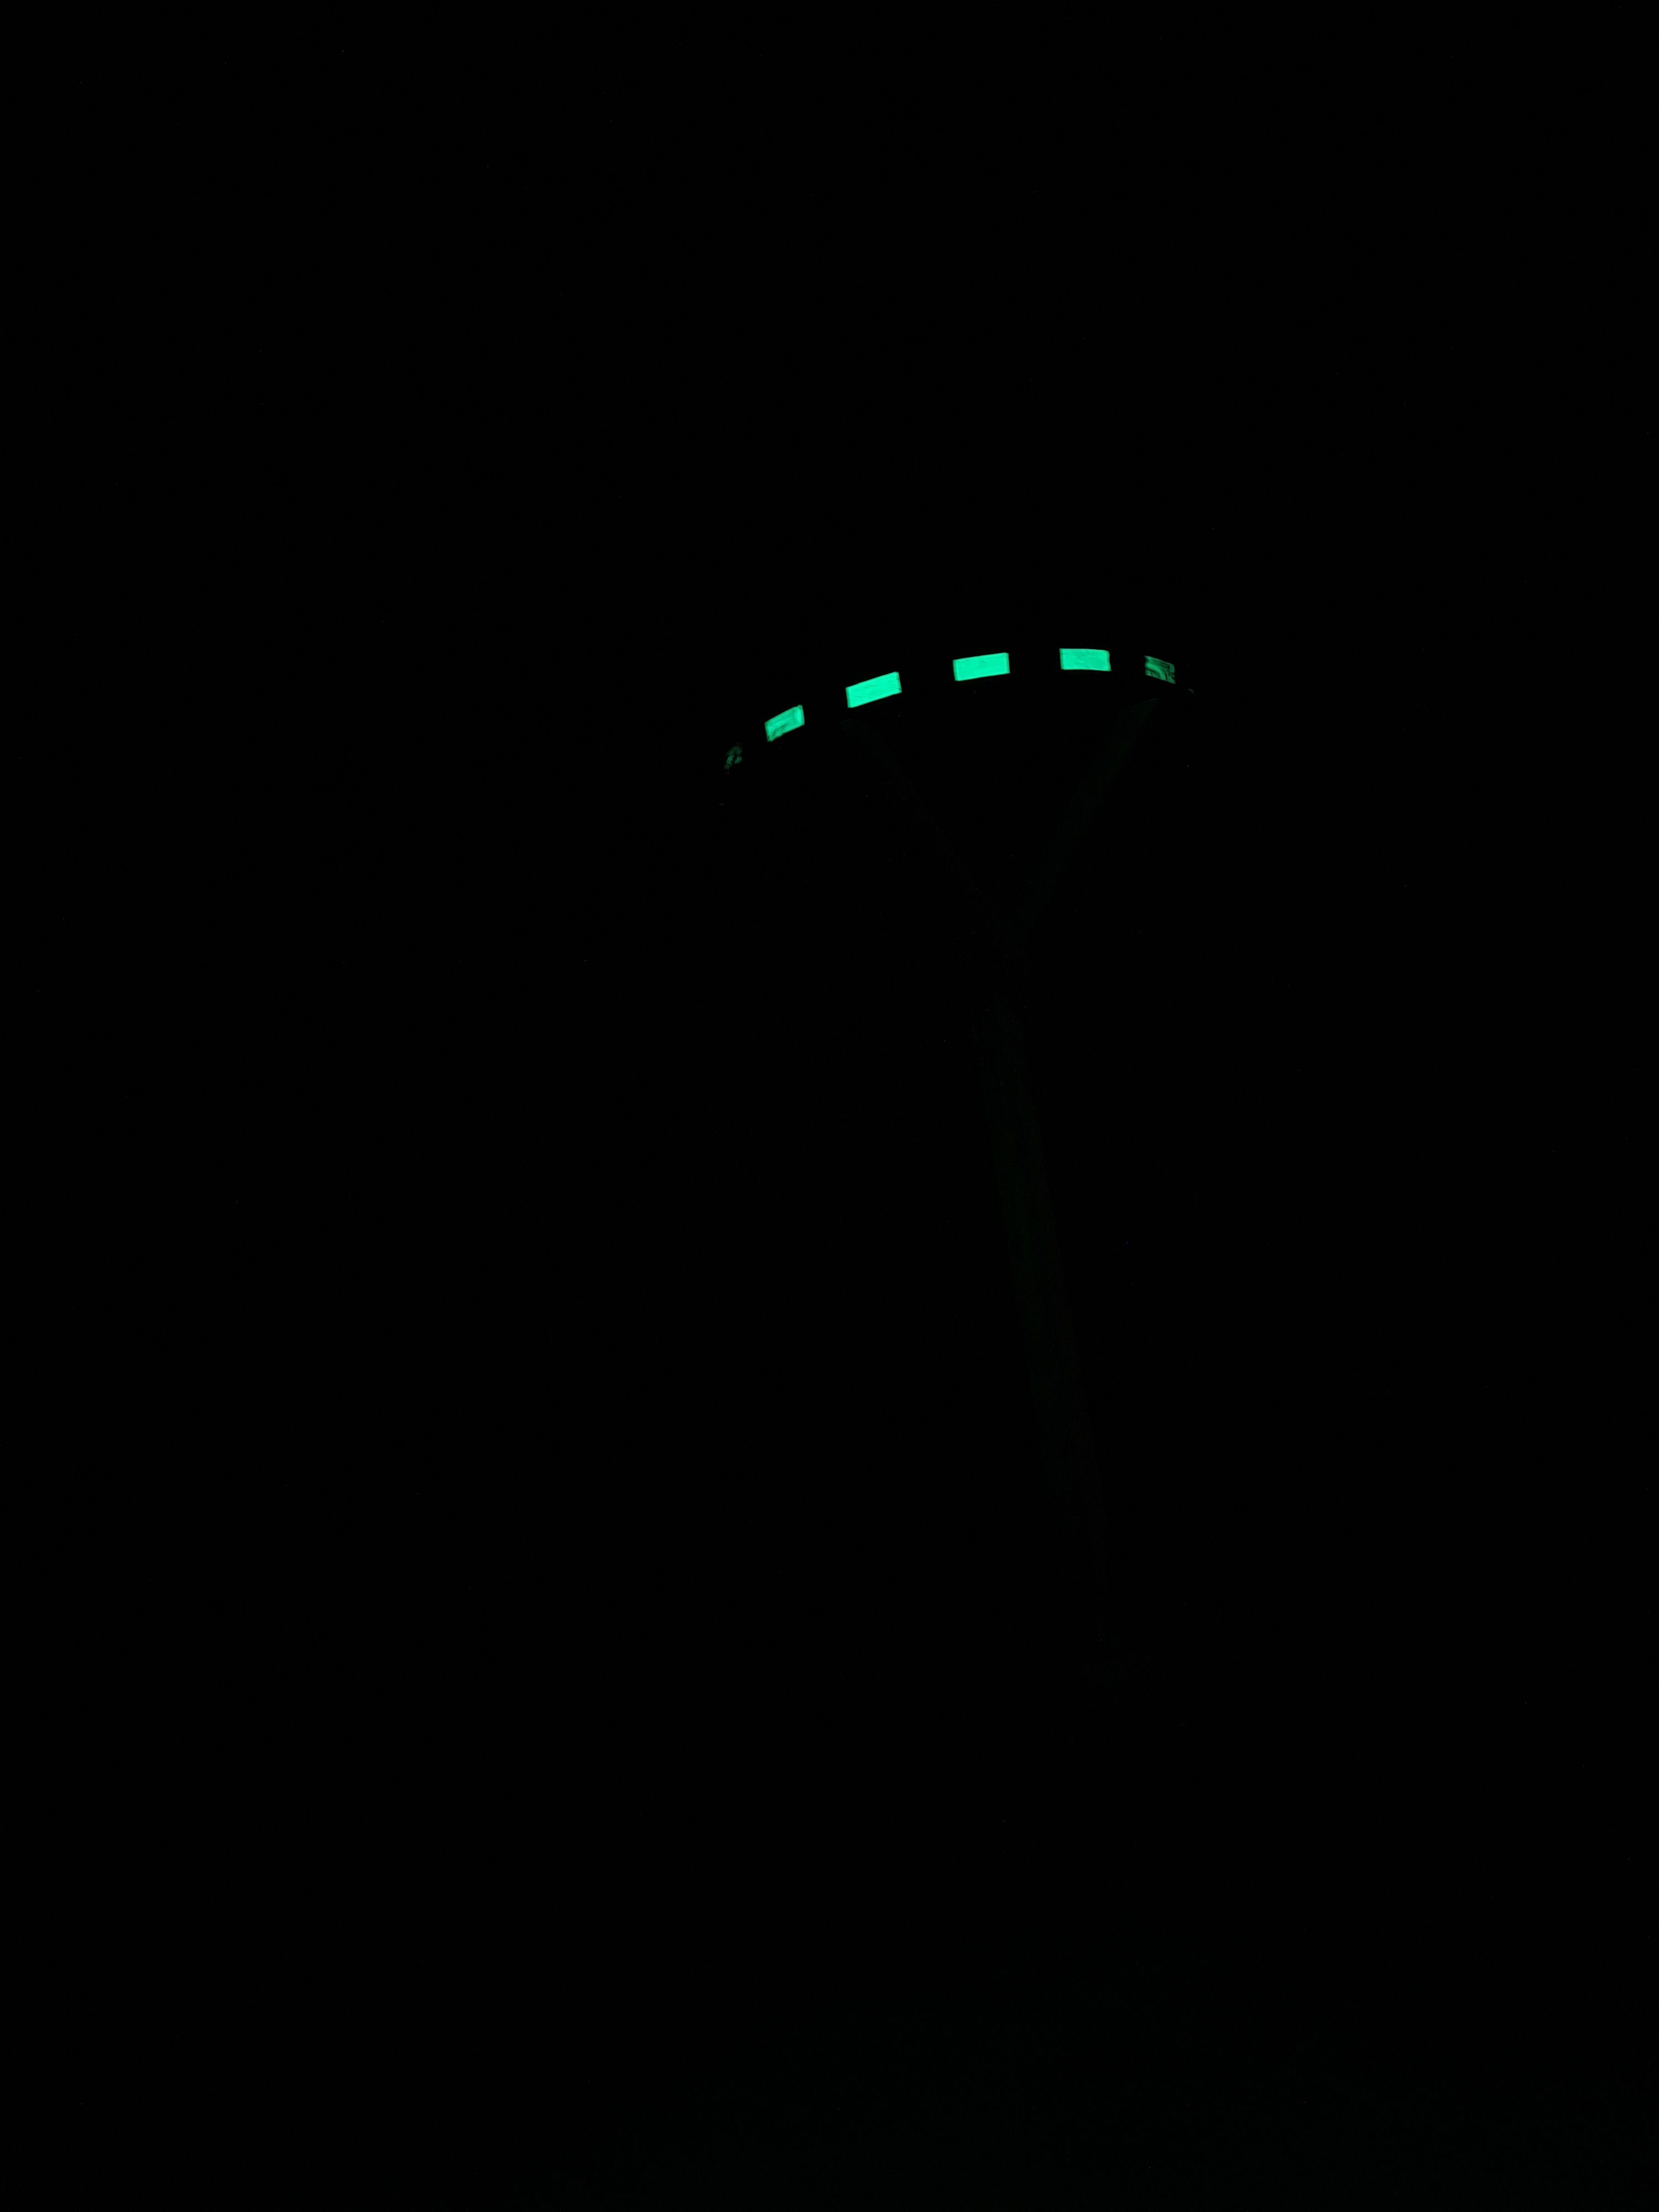hoop: (720, 650, 1195, 777)
